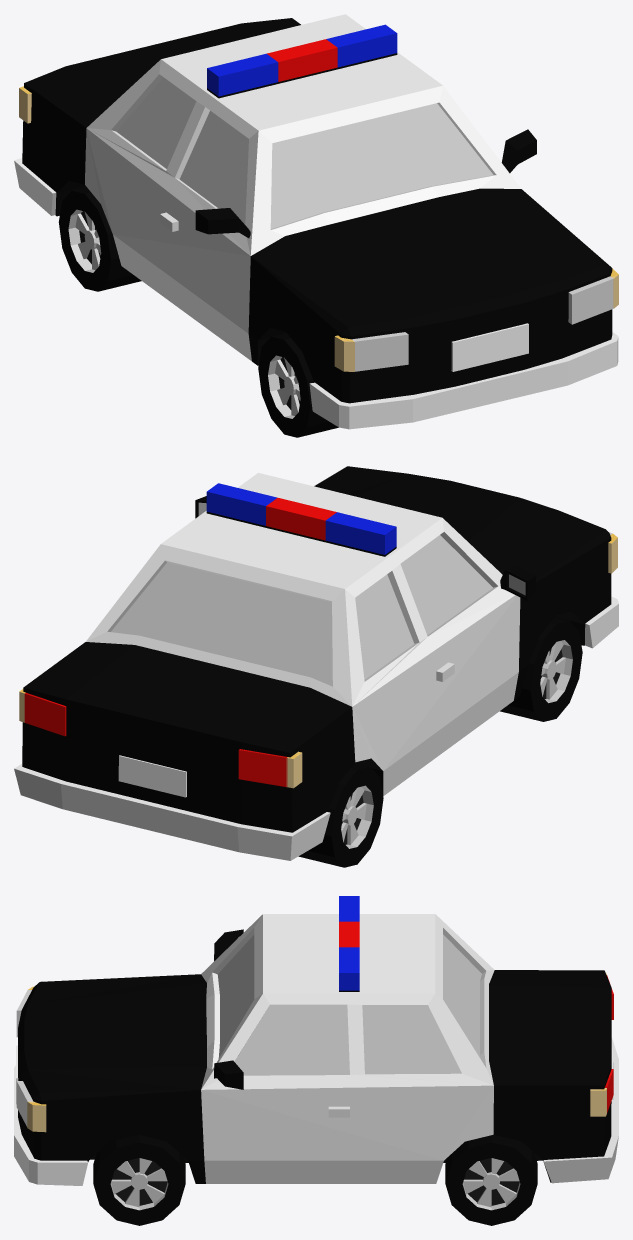
The model's file is Car-06-A.fbx.
3 renders of one model, top to bottom at view 1: azimuth 30°, elevation 25°; view 2: azimuth 150°, elevation 25°; view 3: azimuth 270°, elevation 25°, orthographic. The views are drawn at different scales.
Parts seen in each view (by area): view 1: Car-06, BR, FR, Light-Right; view 2: Car-06, FR, BR, Break-Light, Light-Right; view 3: Car-06, FL, BL, Light-Left.
Part boxes in pixels (x1,y1,x2,y2): Car-06: (14, 14, 618, 429); BR: (58, 187, 141, 291); FR: (258, 333, 338, 437); Light-Right: (19, 86, 354, 371); Car-06: (14, 466, 618, 860); FR: (500, 617, 582, 721); BR: (298, 763, 383, 867); Break-Light: (24, 693, 287, 786); Light-Right: (286, 533, 617, 788); Car-06: (14, 896, 618, 1185); FL: (93, 1134, 185, 1225); BL: (445, 1134, 537, 1225); Light-Left: (27, 1088, 606, 1132).
Bounding box in the file's own units: 2.45 × 1.86 × 4.38.
